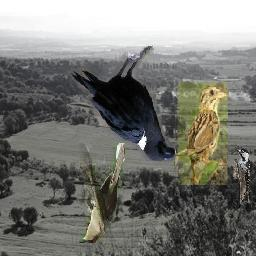Crow: (70, 45, 176, 162)
Cuckoo: (79, 143, 125, 243)
Sparrow: (174, 83, 228, 186)
Woodpecker: (232, 148, 250, 205)
